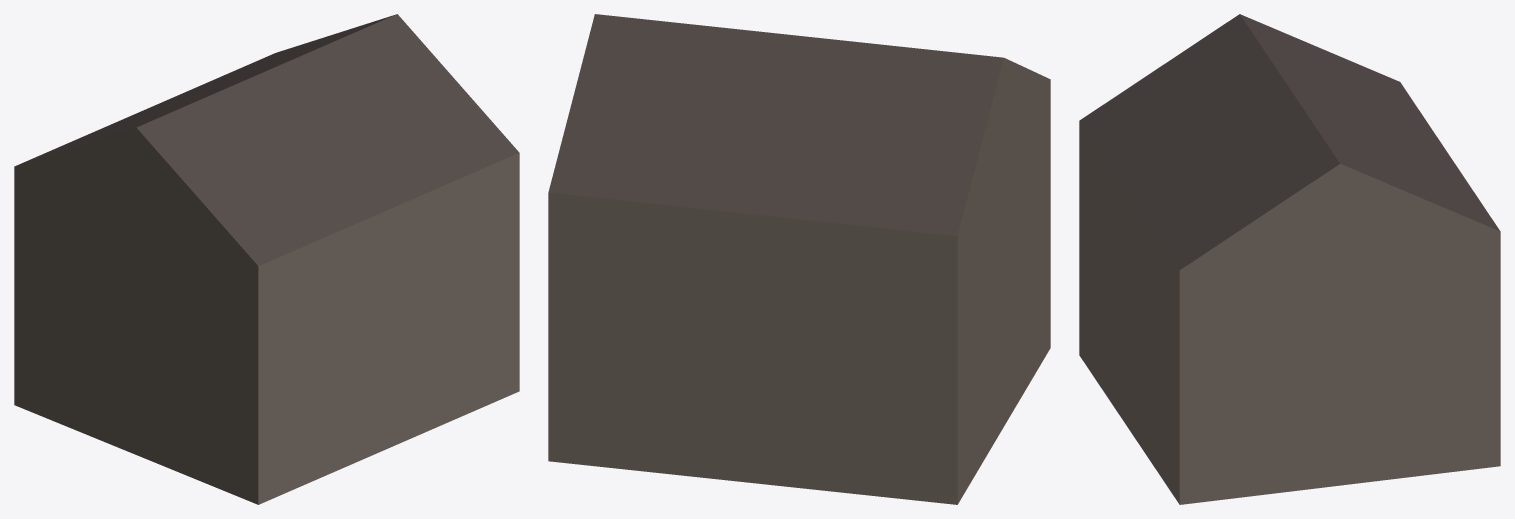
The picture shows the model from 3 angles, left to right: view 1: azimuth 30°, elevation 25°; view 2: azimuth 150°, elevation 25°; view 3: azimuth 270°, elevation 25°; orthographic projection. The views are drawn at different scales.
Visible parts, largest first — view 1: HP-w1200835419; view 2: HP-w1200835419; view 3: HP-w1200835419.
Part boxes in pixels (bbox=[...]): HP-w1200835419: bbox=[14, 14, 519, 504]; HP-w1200835419: bbox=[548, 14, 1050, 504]; HP-w1200835419: bbox=[1079, 14, 1500, 504].
Size of the model in its own units: 10.34 by 8.23 by 9.77.
